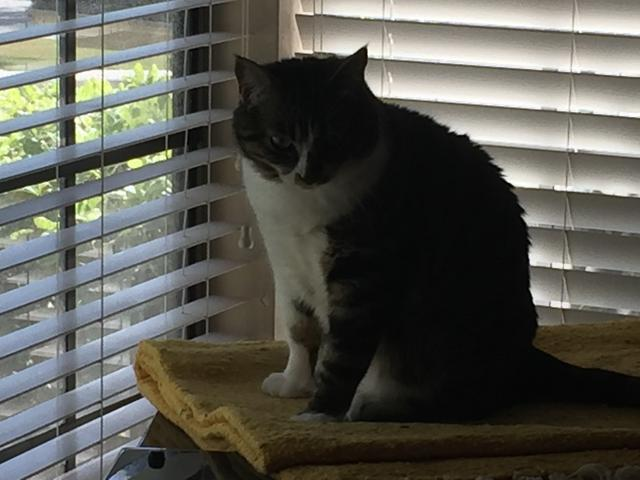playdoh: (226, 45, 640, 425)
